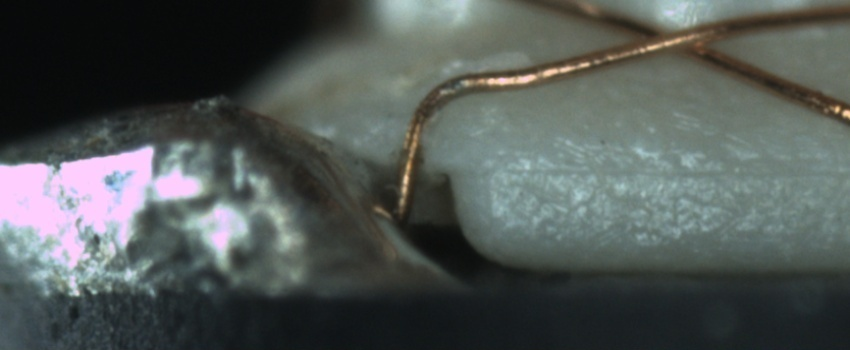CL: (615, 11, 732, 61)
DL: (466, 134, 849, 202)
